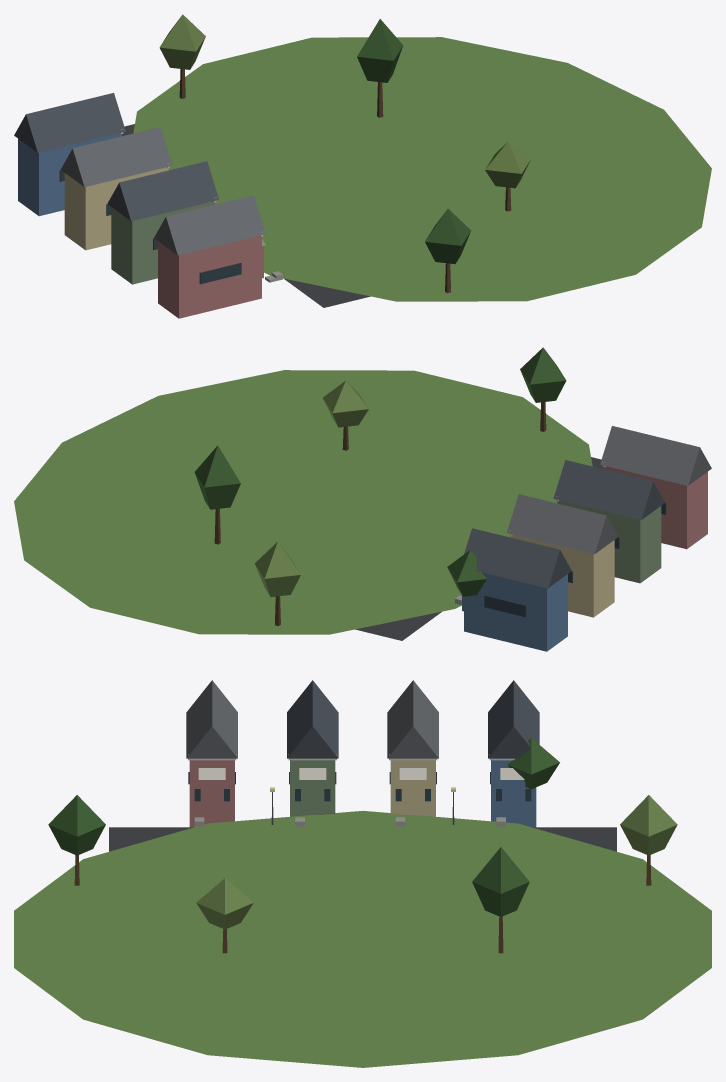
File: mobile.glb
3 views of the same model, one above another, from view 1: azimuth 30°, elevation 25°; view 2: azimuth 150°, elevation 25°; view 3: azimuth 270°, elevation 25° (orthographic). The views are drawn at different scales.
Parts seen in each view (by area): view 1: lm.painted-ladies; view 2: lm.painted-ladies; view 3: lm.painted-ladies.
Part boxes in pixels (x1=…): lm.painted-ladies: x1=14, y1=14, x2=711, y2=318; lm.painted-ladies: x1=14, y1=347, x2=711, y2=651; lm.painted-ladies: x1=14, y1=680, x2=711, y2=1067.
Bounding box in the file's own units: 103 × 19 × 101.
